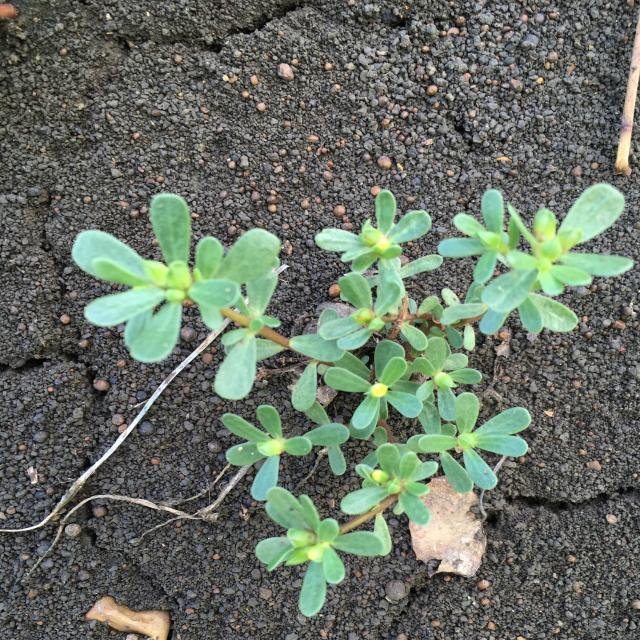Purslane: (72, 183, 633, 618)
